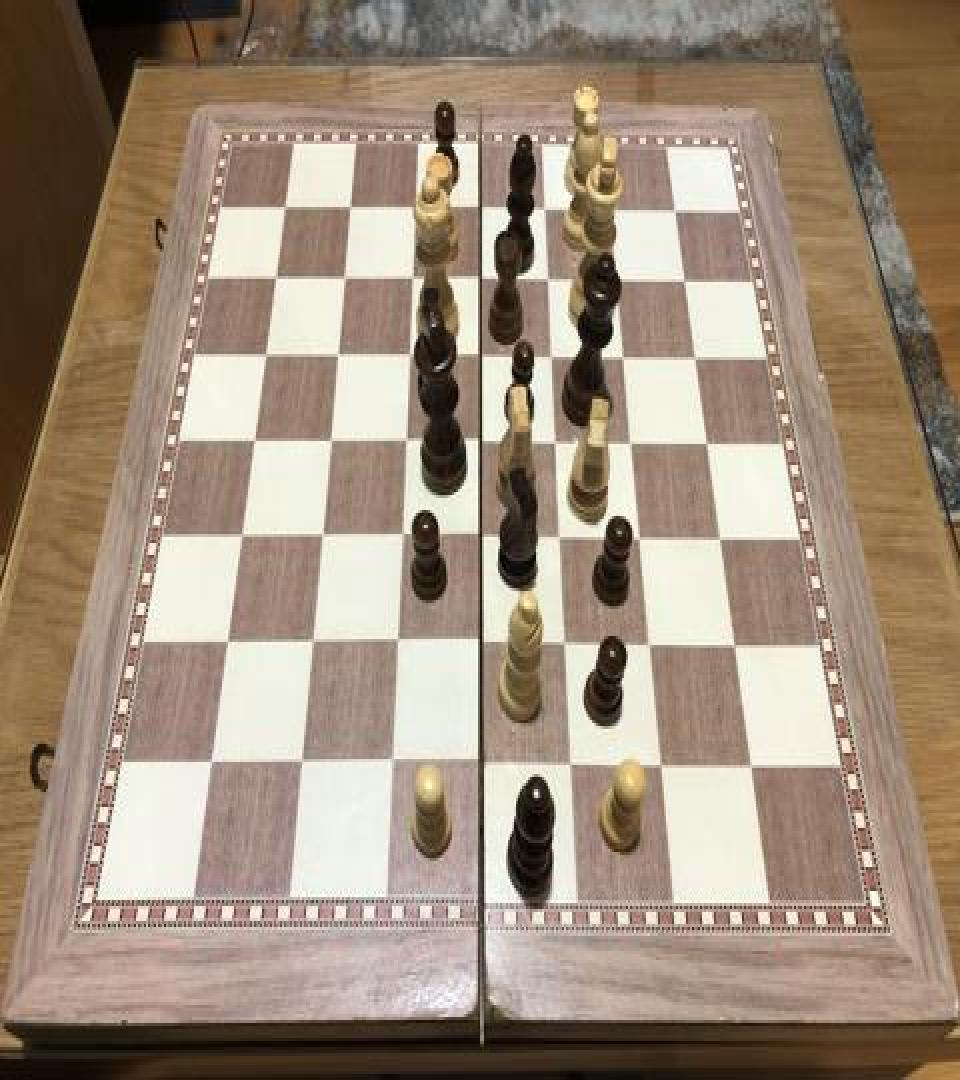xcorner: (722, 625, 746, 662), (637, 625, 661, 662), (552, 625, 576, 662), (468, 625, 492, 662), (383, 625, 407, 662), (299, 625, 323, 662), (215, 625, 239, 662), (663, 190, 687, 226), (598, 190, 622, 226), (533, 190, 557, 226), (468, 190, 492, 226), (403, 192, 427, 228), (339, 192, 363, 228), (274, 192, 298, 228), (672, 261, 696, 297), (604, 261, 628, 297), (536, 261, 560, 297), (468, 261, 492, 297), (400, 261, 424, 297), (332, 261, 356, 297), (264, 261, 288, 297), (683, 338, 707, 374), (611, 338, 635, 374), (539, 338, 563, 374), (468, 338, 492, 374), (396, 338, 420, 374), (325, 339, 349, 375), (254, 339, 278, 375), (694, 423, 718, 459), (619, 423, 643, 459), (543, 423, 567, 459), (468, 423, 492, 459), (393, 423, 417, 459), (317, 423, 341, 459), (242, 423, 266, 459), (707, 518, 731, 554), (627, 518, 651, 554), (547, 519, 571, 555), (468, 519, 492, 555), (388, 519, 412, 555), (309, 519, 333, 555), (229, 519, 253, 555), (738, 746, 762, 782), (648, 746, 672, 782), (557, 746, 581, 782), (467, 746, 491, 782), (378, 746, 402, 782), (288, 746, 312, 782), (198, 746, 222, 782)
